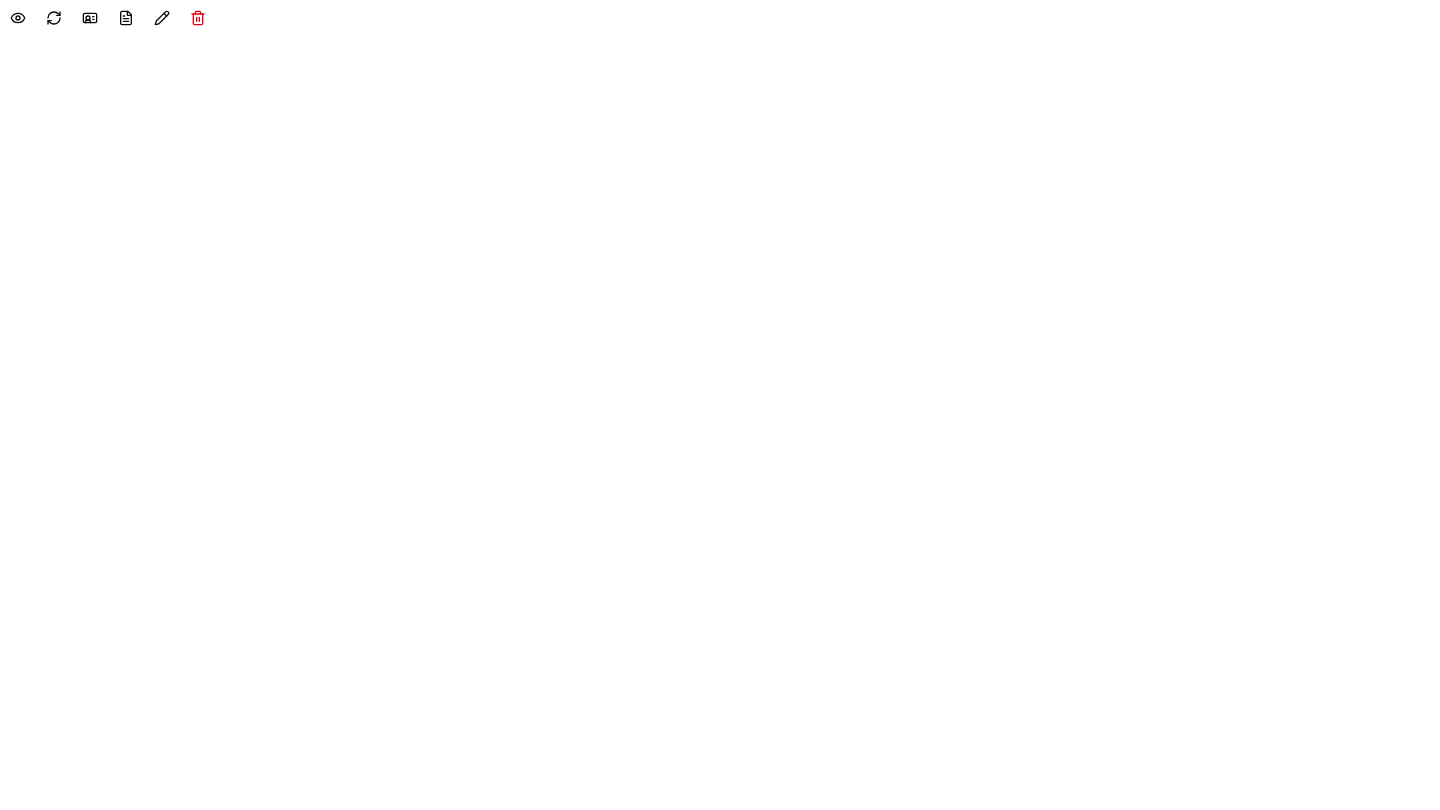
Scenario: InvoiceRowActions › apre il dialog di conferma eliminazione con il testo atteso n_fattura/anno
Click the button named "Elimina fattura".
click(198, 18)  # box x1=180 y1=0 x2=216 y2=36
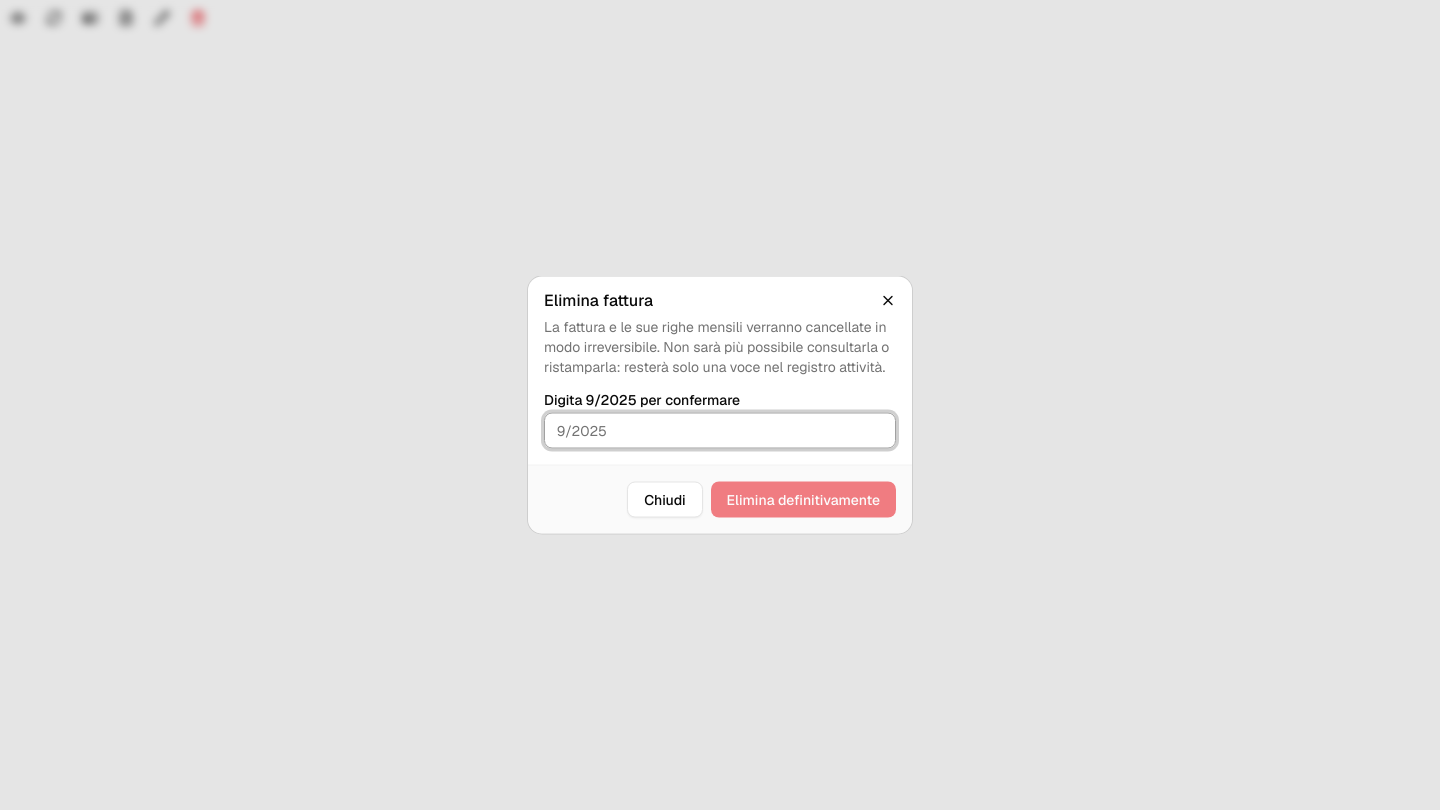
Now the text "Digita 9/2025 per confermare" is shown, box x1=544 y1=390 x2=740 y2=408
